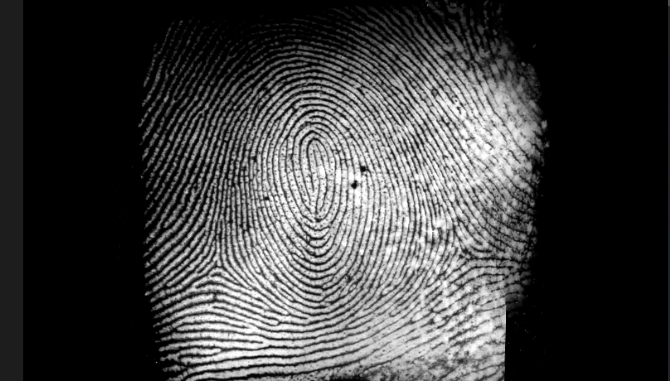deltas: (441, 224, 485, 275), (193, 243, 239, 290)
nucleo: (289, 126, 340, 173)
